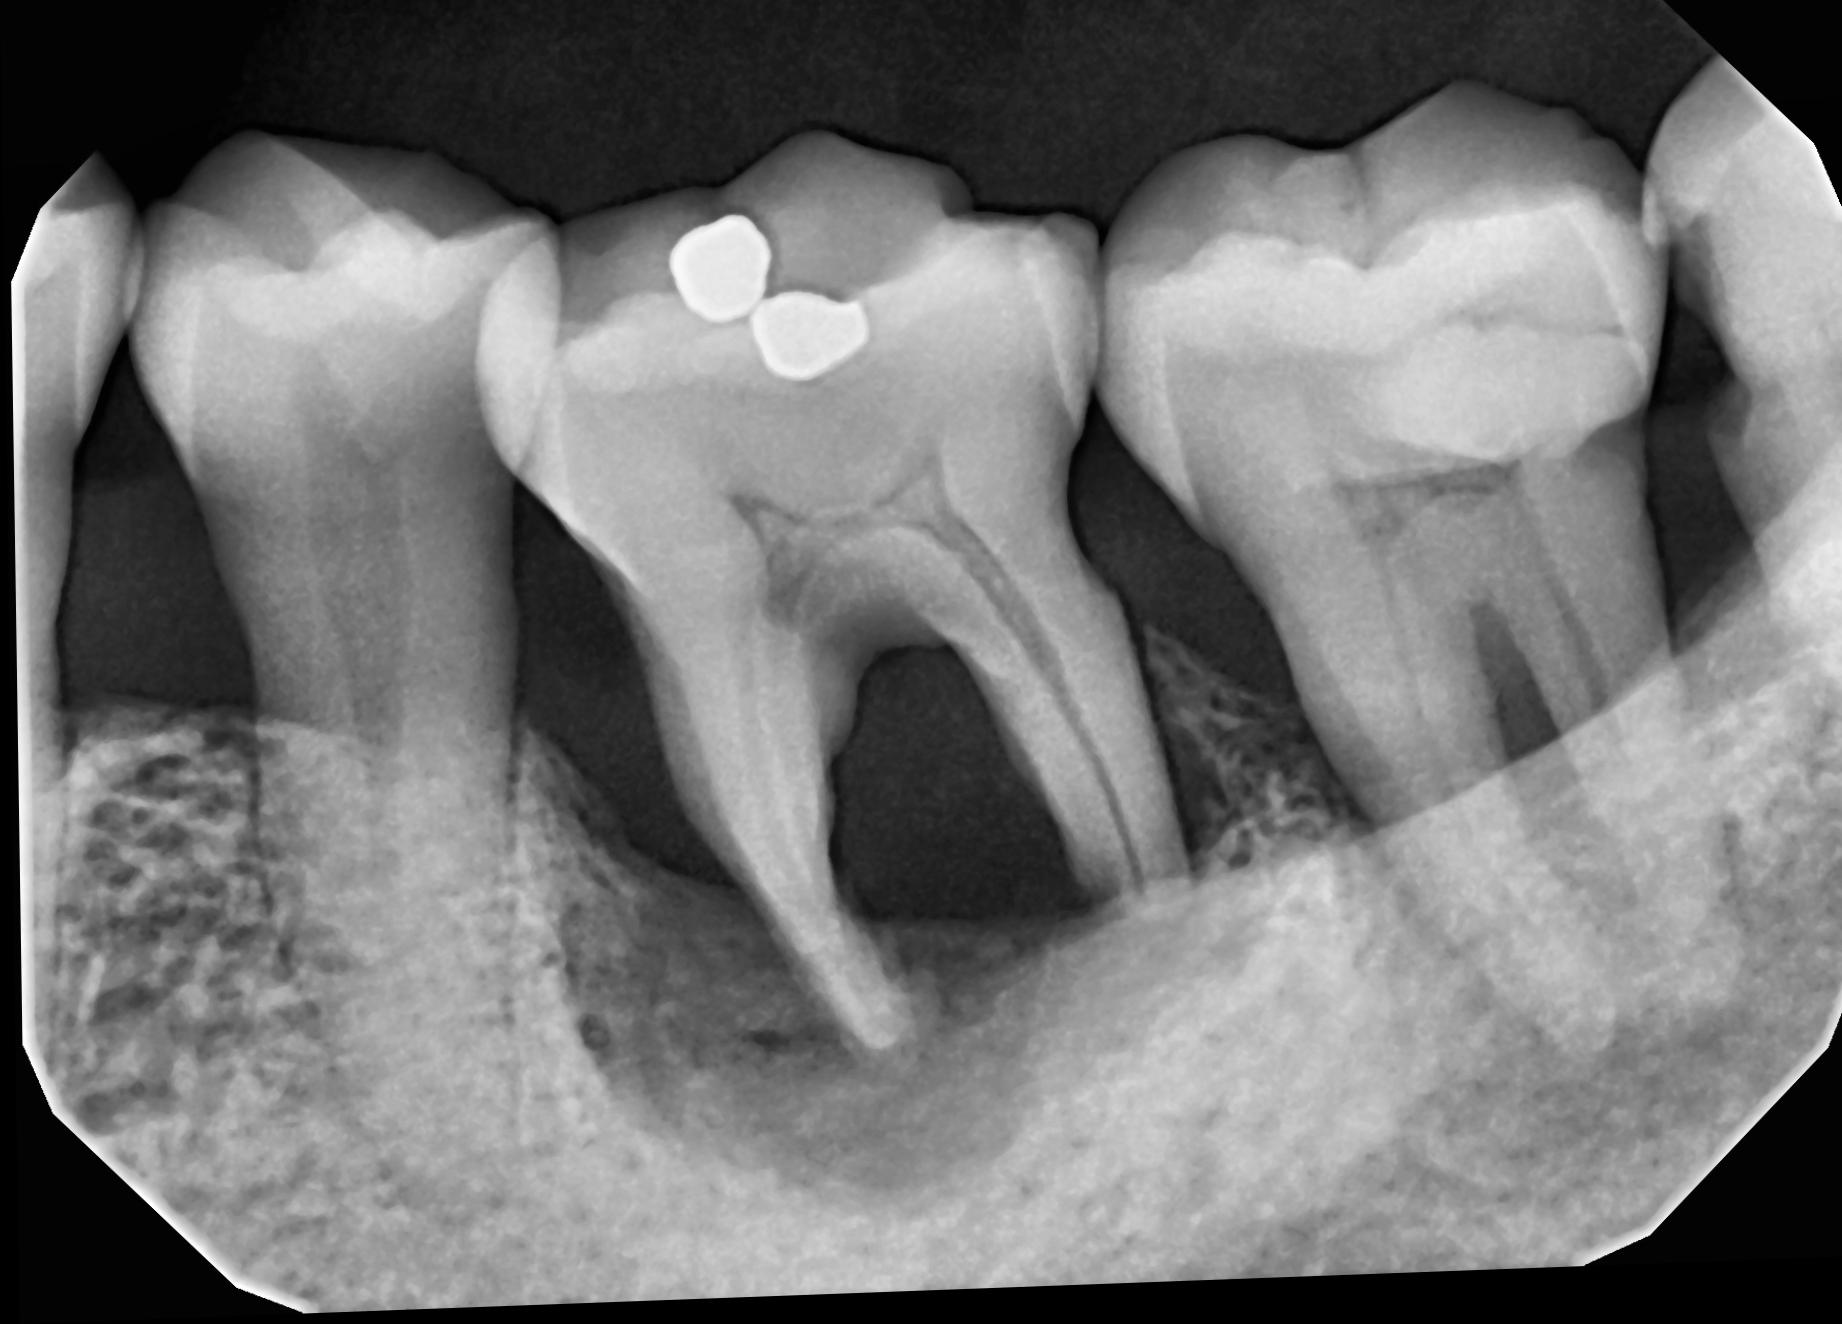Individual Tooth: (477, 133, 1193, 1061), (1092, 88, 1742, 1079), (120, 133, 559, 1246), (1647, 75, 1842, 769), (4, 159, 149, 1052)
